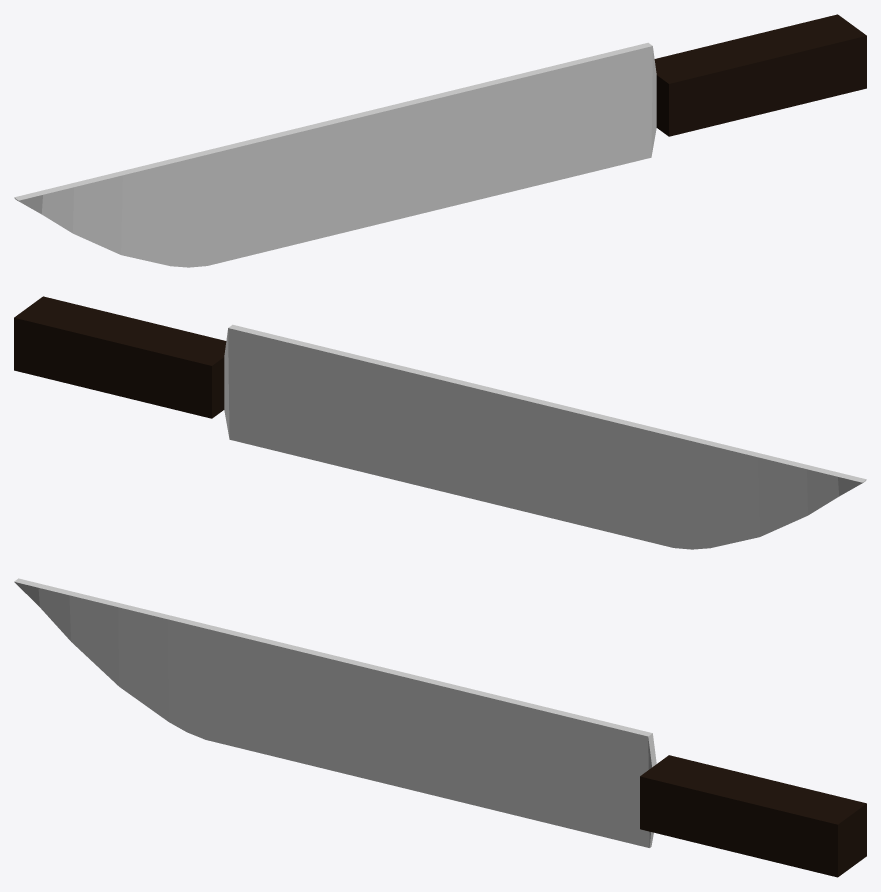
3 views of the same model, one above another, from view 1: azimuth 30°, elevation 25°; view 2: azimuth 150°, elevation 25°; view 3: azimuth 330°, elevation 25° (orthographic).
Parts seen in each view (by area): view 1: Cube; view 2: Cube; view 3: Cube.
Part boxes in pixels (bbox=[...]): Cube: bbox=[14, 14, 866, 267]; Cube: bbox=[14, 296, 866, 549]; Cube: bbox=[14, 578, 866, 877].
Size of the model in its own units: 259 by 33.37 by 15.64.
